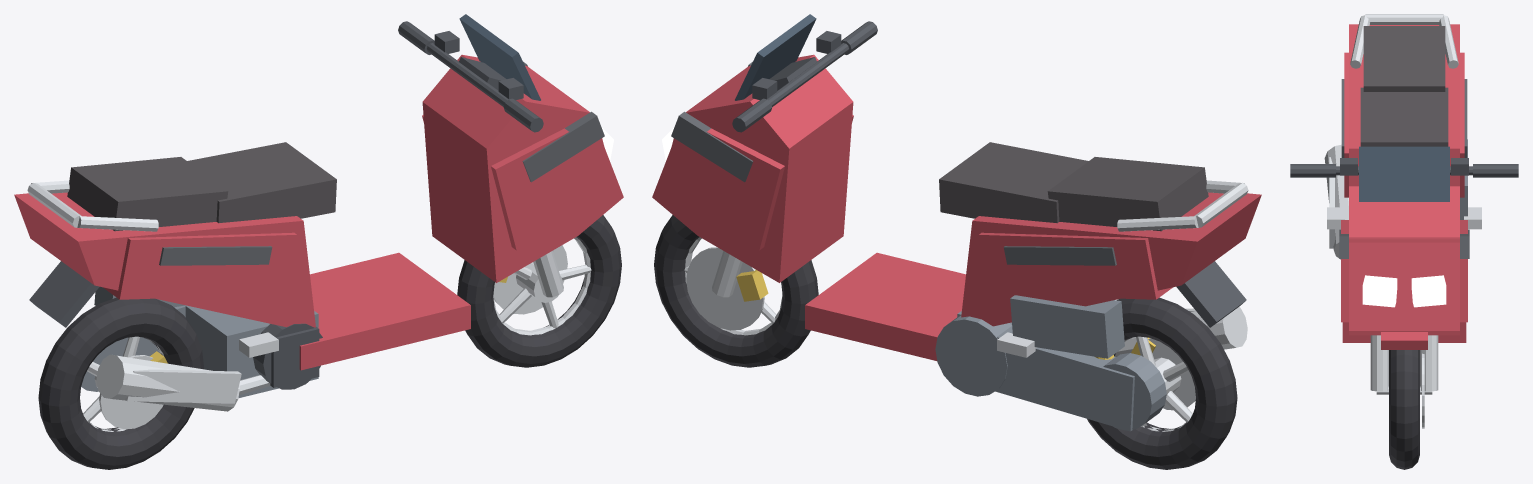
The model's file is honda-vario-160.glb.
The picture shows the model from 3 angles, left to right: view 1: azimuth 30°, elevation 25°; view 2: azimuth 150°, elevation 25°; view 3: azimuth 270°, elevation 25°; orthographic projection. The views are drawn at different scales.
Parts seen in each view (by area): view 1: Bodi_Utama, Roda_Ban, Jok_Motor, Cover_Knalpot, Aksen_Bodi, Master_Rem_Stang, Mesin_Blok, Velg_Roda, Cover_Radiator, Spakbor_Belakang, Windshield_Visor, Behel_Jok (+5 smaller); view 2: Bodi_Utama, Roda_Ban, Cover_CVT, Jok_Motor, Aksen_Bodi, Master_Rem_Stang, Piringan_Depan, Spakbor_Belakang, Windshield_Visor, Behel_Jok, Velg_Roda, Cover_Knalpot (+4 smaller); view 3: Bodi_Utama, Jok_Motor, Windshield_Visor, Roda_Ban, Lampu_Depan, Master_Rem_Stang, Suspensi_Depan, Behel_Jok, Cover_Knalpot, Aksen_Bodi, Spakbor_Depan, Footstep_Belakang (+1 smaller).
Part boxes in pixels (x1,y1,x2,y2): Bodi_Utama: (14, 54, 623, 370); Roda_Ban: (38, 215, 621, 469); Jok_Motor: (67, 142, 336, 231); Cover_Knalpot: (96, 354, 270, 411); Aksen_Bodi: (159, 61, 604, 265); Master_Rem_Stang: (398, 21, 543, 132); Mesin_Blok: (185, 305, 318, 398); Velg_Roda: (83, 237, 591, 431); Cover_Radiator: (253, 323, 322, 389); Spakbor_Belakang: (29, 261, 99, 327); Windshield_Visor: (459, 14, 540, 100); Behel_Jok: (27, 180, 158, 231); Bodi_Utama: (652, 54, 1261, 360); Roda_Ban: (654, 215, 1237, 469); Cover_CVT: (935, 295, 1166, 431); Jok_Motor: (939, 142, 1208, 231); Aksen_Bodi: (671, 61, 1116, 265); Master_Rem_Stang: (732, 21, 877, 132); Piringan_Depan: (686, 247, 764, 330); Spakbor_Belakang: (1176, 261, 1246, 327); Windshield_Visor: (735, 14, 816, 100); Behel_Jok: (1117, 180, 1248, 231); Velg_Roda: (684, 237, 1192, 431); Cover_Knalpot: (1115, 307, 1247, 356); Bodi_Utama: (1341, 24, 1467, 342); Jok_Motor: (1360, 26, 1448, 146); Windshield_Visor: (1359, 146, 1449, 201); Roda_Ban: (1389, 350, 1419, 469); Lampu_Depan: (1362, 275, 1446, 307); Master_Rem_Stang: (1290, 158, 1518, 177); Suspensi_Depan: (1370, 335, 1438, 394); Behel_Jok: (1350, 14, 1458, 68); Cover_Knalpot: (1324, 144, 1348, 259); Aksen_Bodi: (1339, 79, 1469, 258); Spakbor_Depan: (1381, 332, 1427, 349); Footstep_Belakang: (1327, 207, 1481, 229).
Size of the model in its own units: 1.77 by 1 by 0.7.
